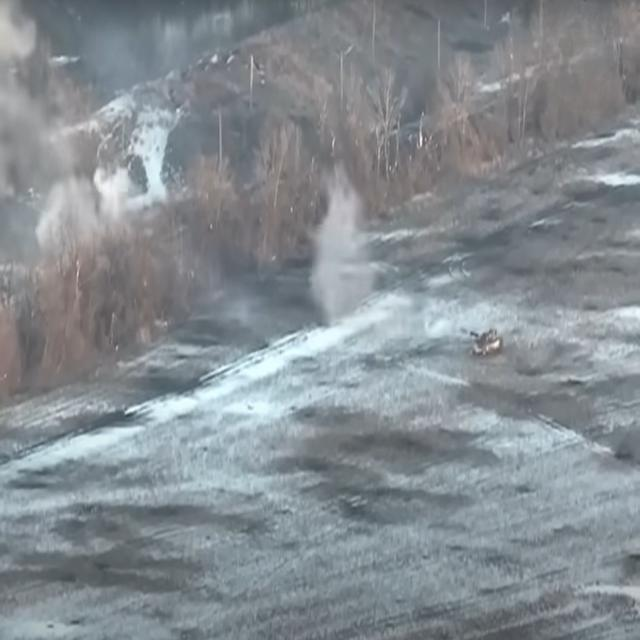MBT: (459, 323, 507, 361)
